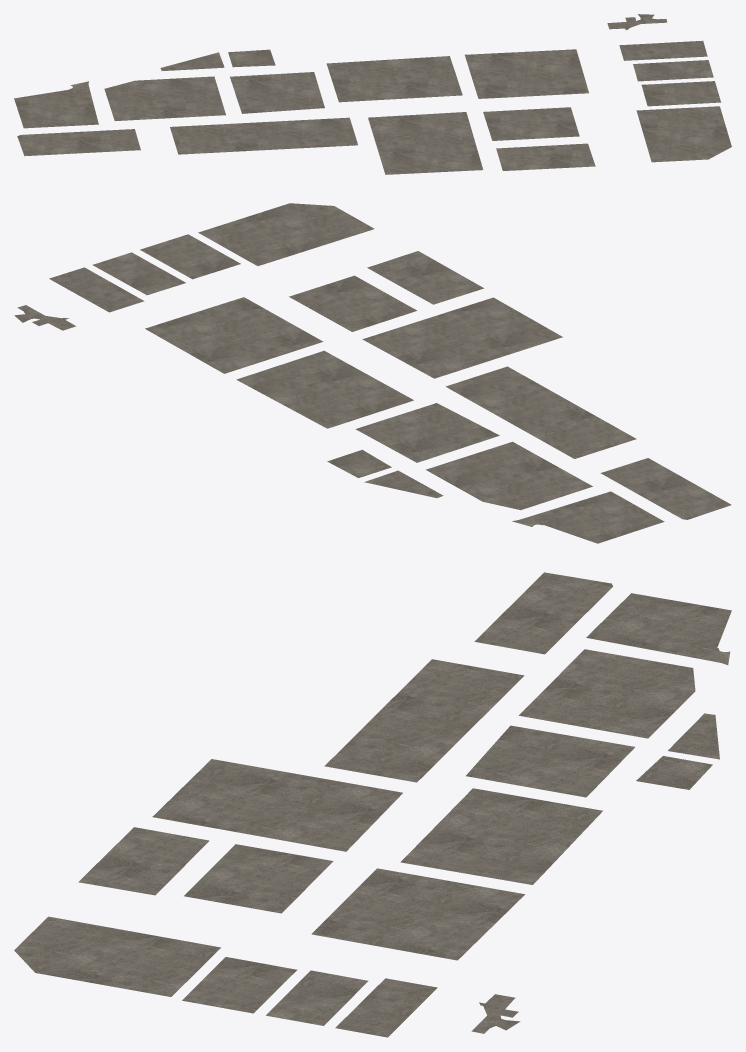
Rendered from road_p06_02.fbx.
The picture shows the model from 3 angles, top to bottom: view 1: azimuth 30°, elevation 25°; view 2: azimuth 150°, elevation 25°; view 3: azimuth 270°, elevation 25°; orthographic projection. The views are drawn at different scales.
Visible parts, largest first — view 1: road_p06_02; view 2: road_p06_02; view 3: road_p06_02.
Boxes of the visible parts, left/top/right/bottom form: road_p06_02: left=14, top=14, right=731, bottom=174; road_p06_02: left=14, top=203, right=731, bottom=543; road_p06_02: left=14, top=572, right=731, bottom=1037.
Size of the model in its own units: 94010 by 4.29 by 61311.
